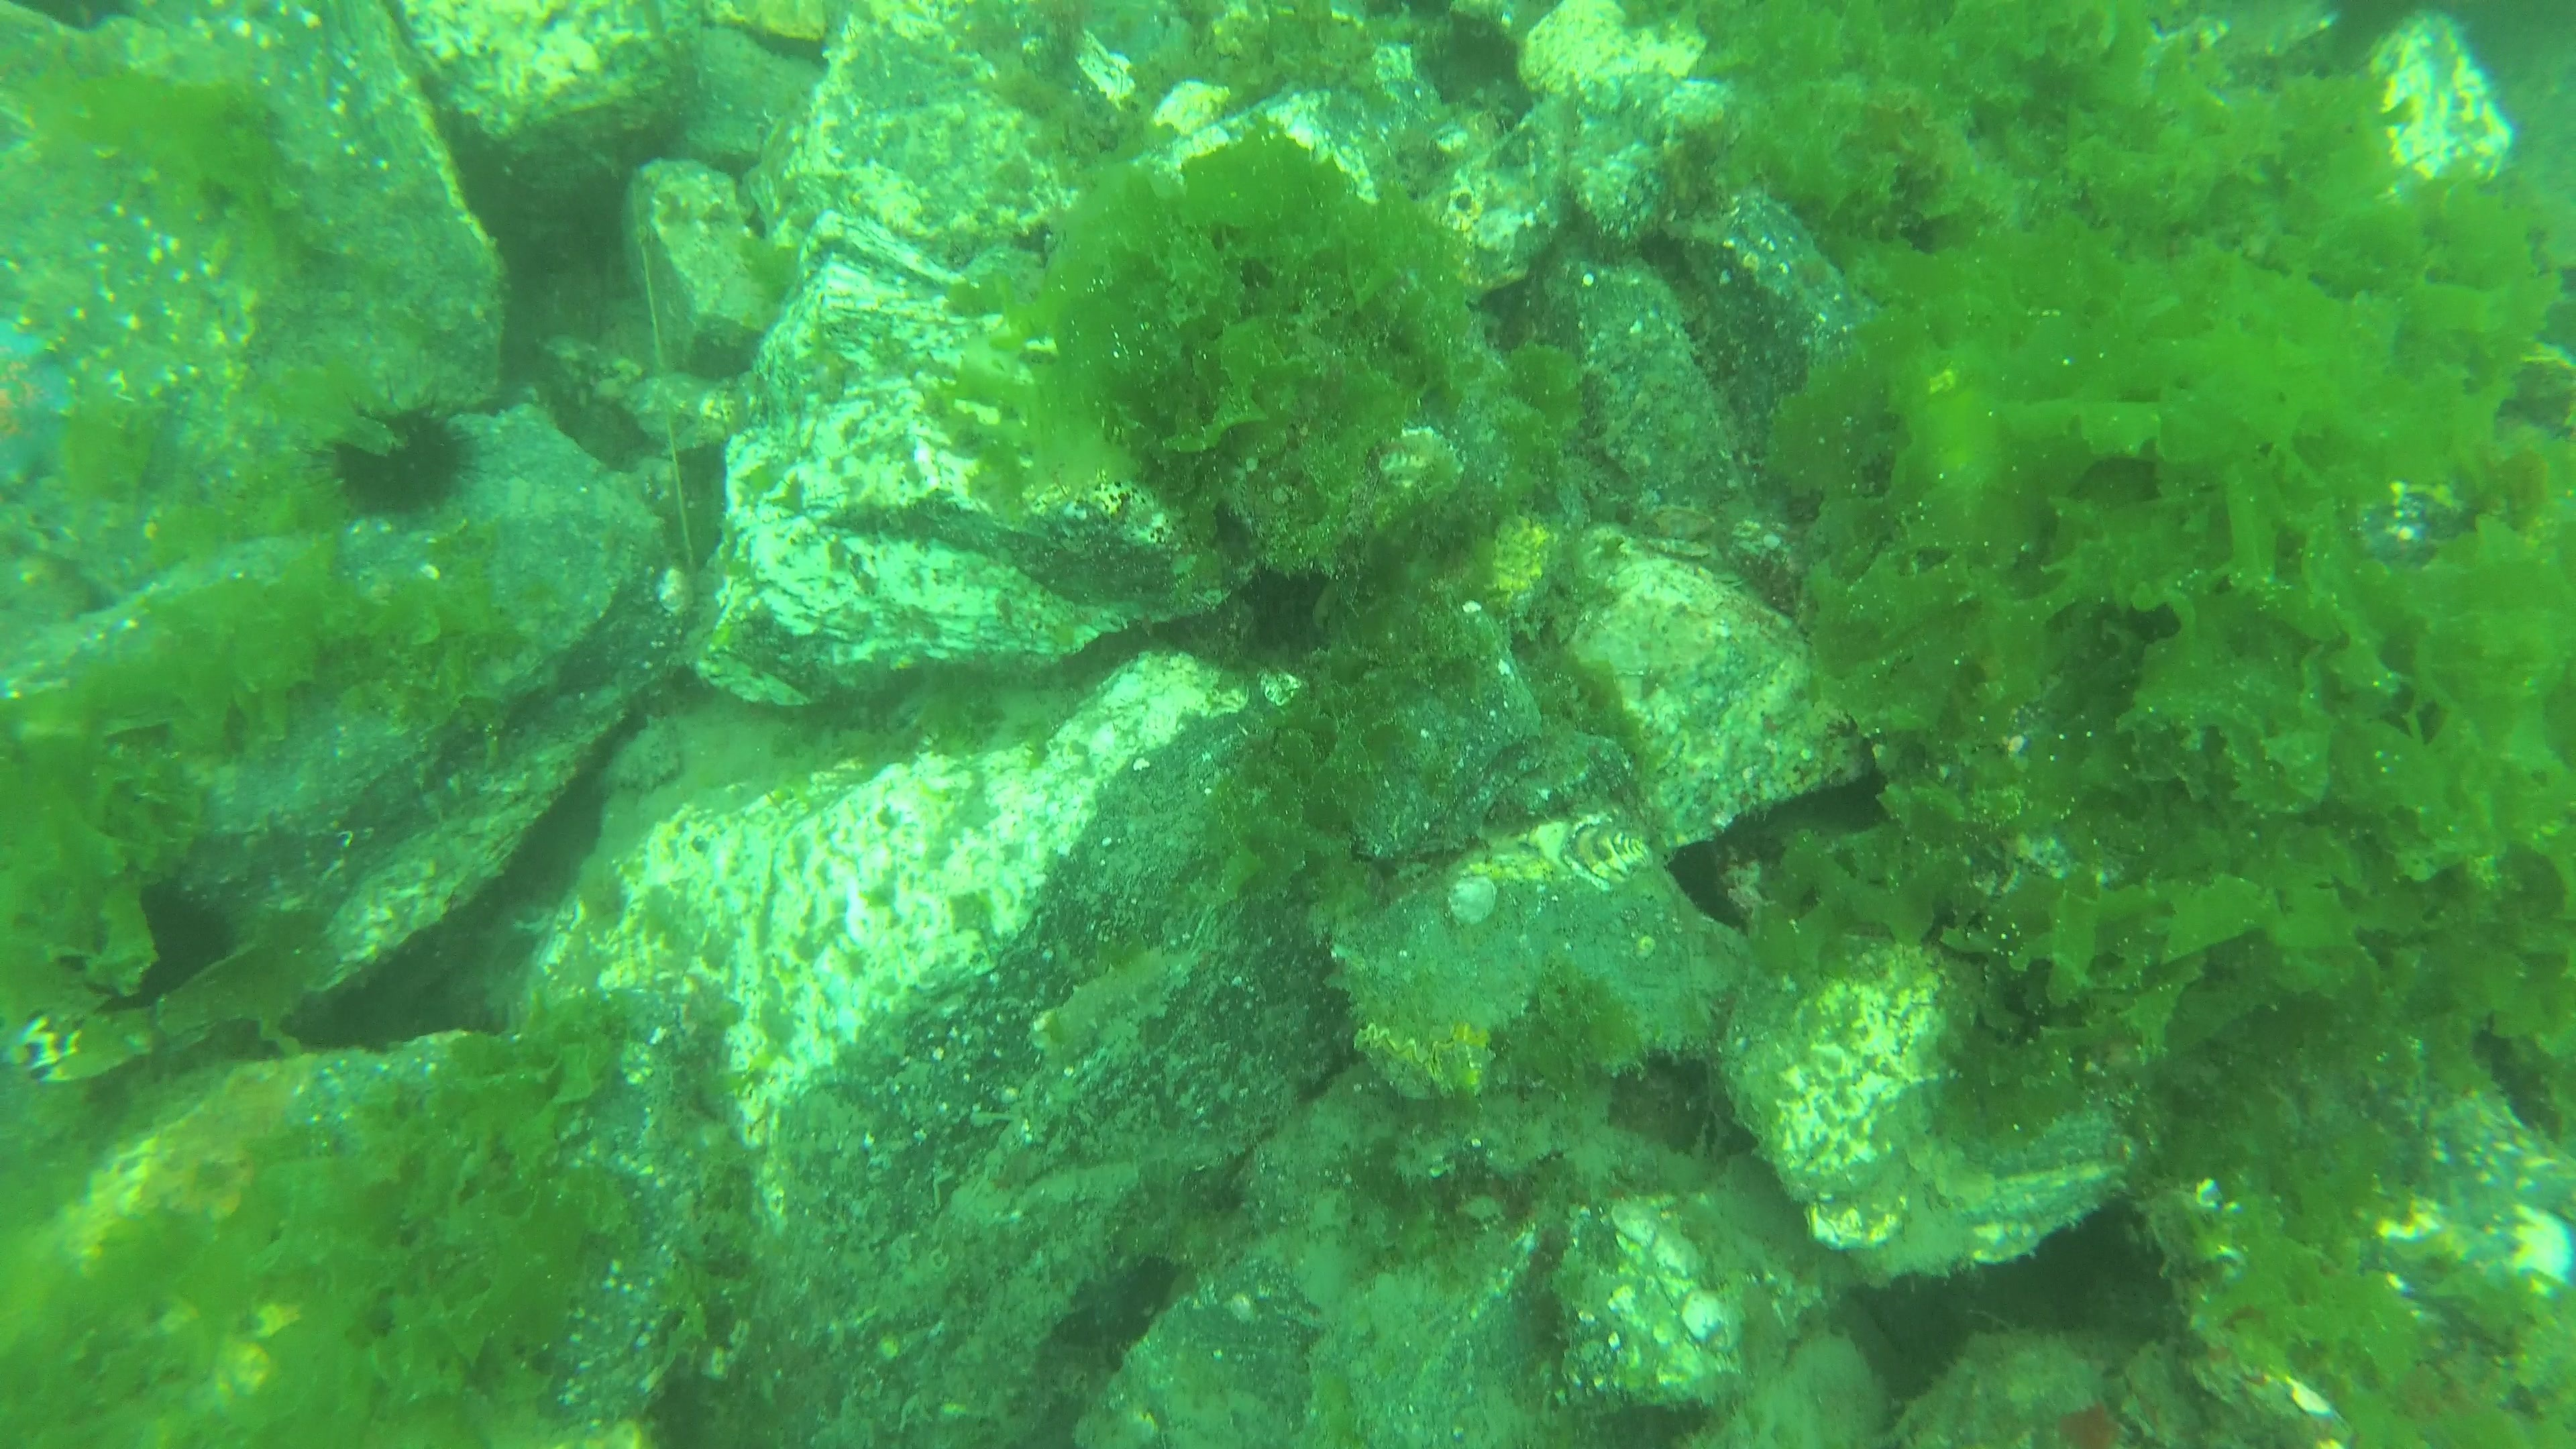echinus: (315, 384, 487, 529)
starfish: (4, 299, 80, 511)
